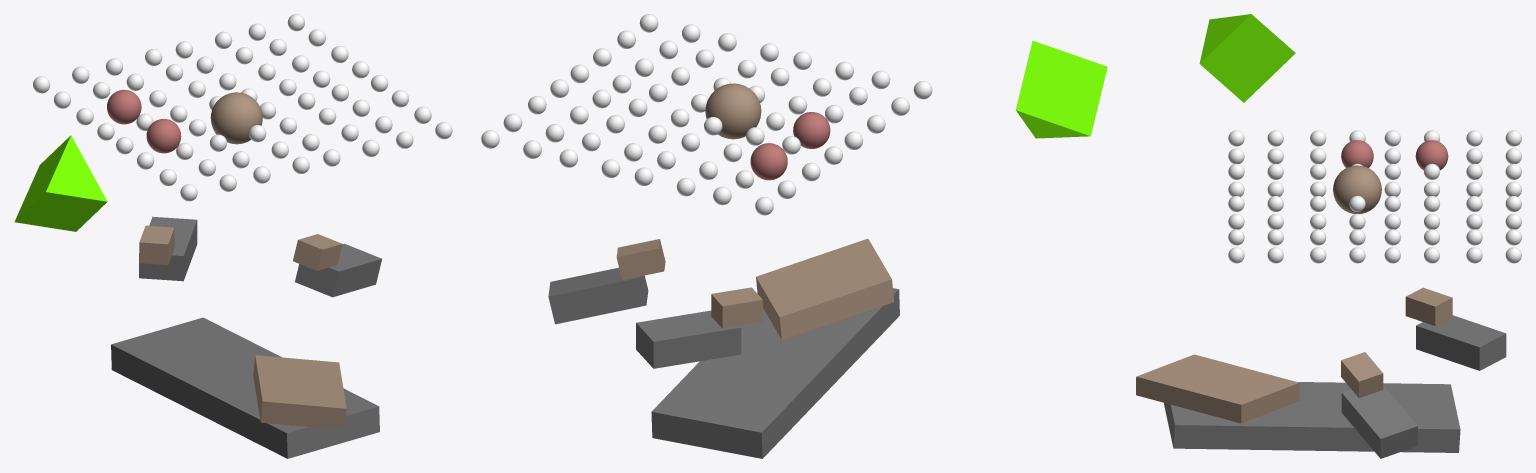
The model's file is compound_scene.glb.
3 renders of one model, left to right at view 1: azimuth 30°, elevation 25°; view 2: azimuth 150°, elevation 25°; view 3: azimuth 270°, elevation 25°, orthographic. The views are drawn at different scales.
Parts seen in each view (by area): view 1: Child_Cube_1 (×3), Child_Cube_2 (×3), Prism, Sphere (36), Sphere (35), Sphere (32); view 2: Child_Cube_1 (×3), Child_Cube_2 (×3), Prism, Sphere (36), Sphere (35), Sphere (32); view 3: Child_Cube_1 (×3), Child_Cube_2 (×3), Prism, Sphere (36), Sphere (35), Sphere (32).
Part boxes in pixels (box(x1,y1,x2,y2)): Child_Cube_1 (×3): box(111, 216, 381, 458); Child_Cube_2 (×3): box(139, 225, 346, 429); Prism: box(14, 135, 107, 231); Sphere (36): box(210, 92, 262, 144); Sphere (35): box(107, 89, 141, 124); Sphere (32): box(146, 118, 181, 153); Child_Cube_1 (×3): box(548, 267, 899, 458); Child_Cube_2 (×3): box(616, 238, 894, 339); Prism: box(1015, 41, 1107, 138); Sphere (36): box(705, 83, 761, 139); Sphere (35): box(750, 143, 787, 180); Sphere (32): box(793, 112, 830, 149); Child_Cube_1 (×3): box(1164, 315, 1506, 458); Child_Cube_2 (×3): box(1136, 287, 1452, 423); Prism: box(1199, 14, 1295, 102); Sphere (36): box(1333, 165, 1381, 213); Sphere (35): box(1415, 140, 1448, 170); Sphere (32): box(1341, 140, 1373, 167).
Size of what is drawn, in the model's own units: 7.23 by 5.52 by 5.9.
